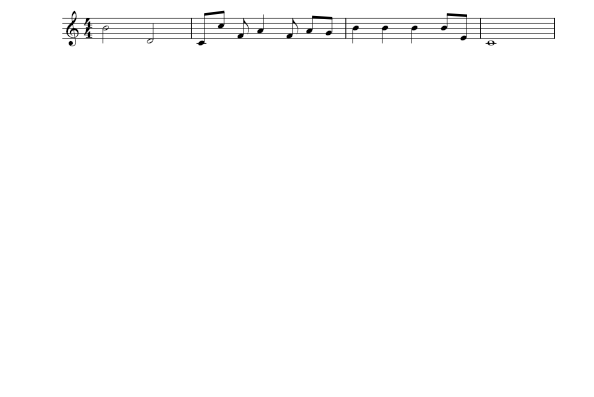Treble Clef: (63, 6, 82, 53)
